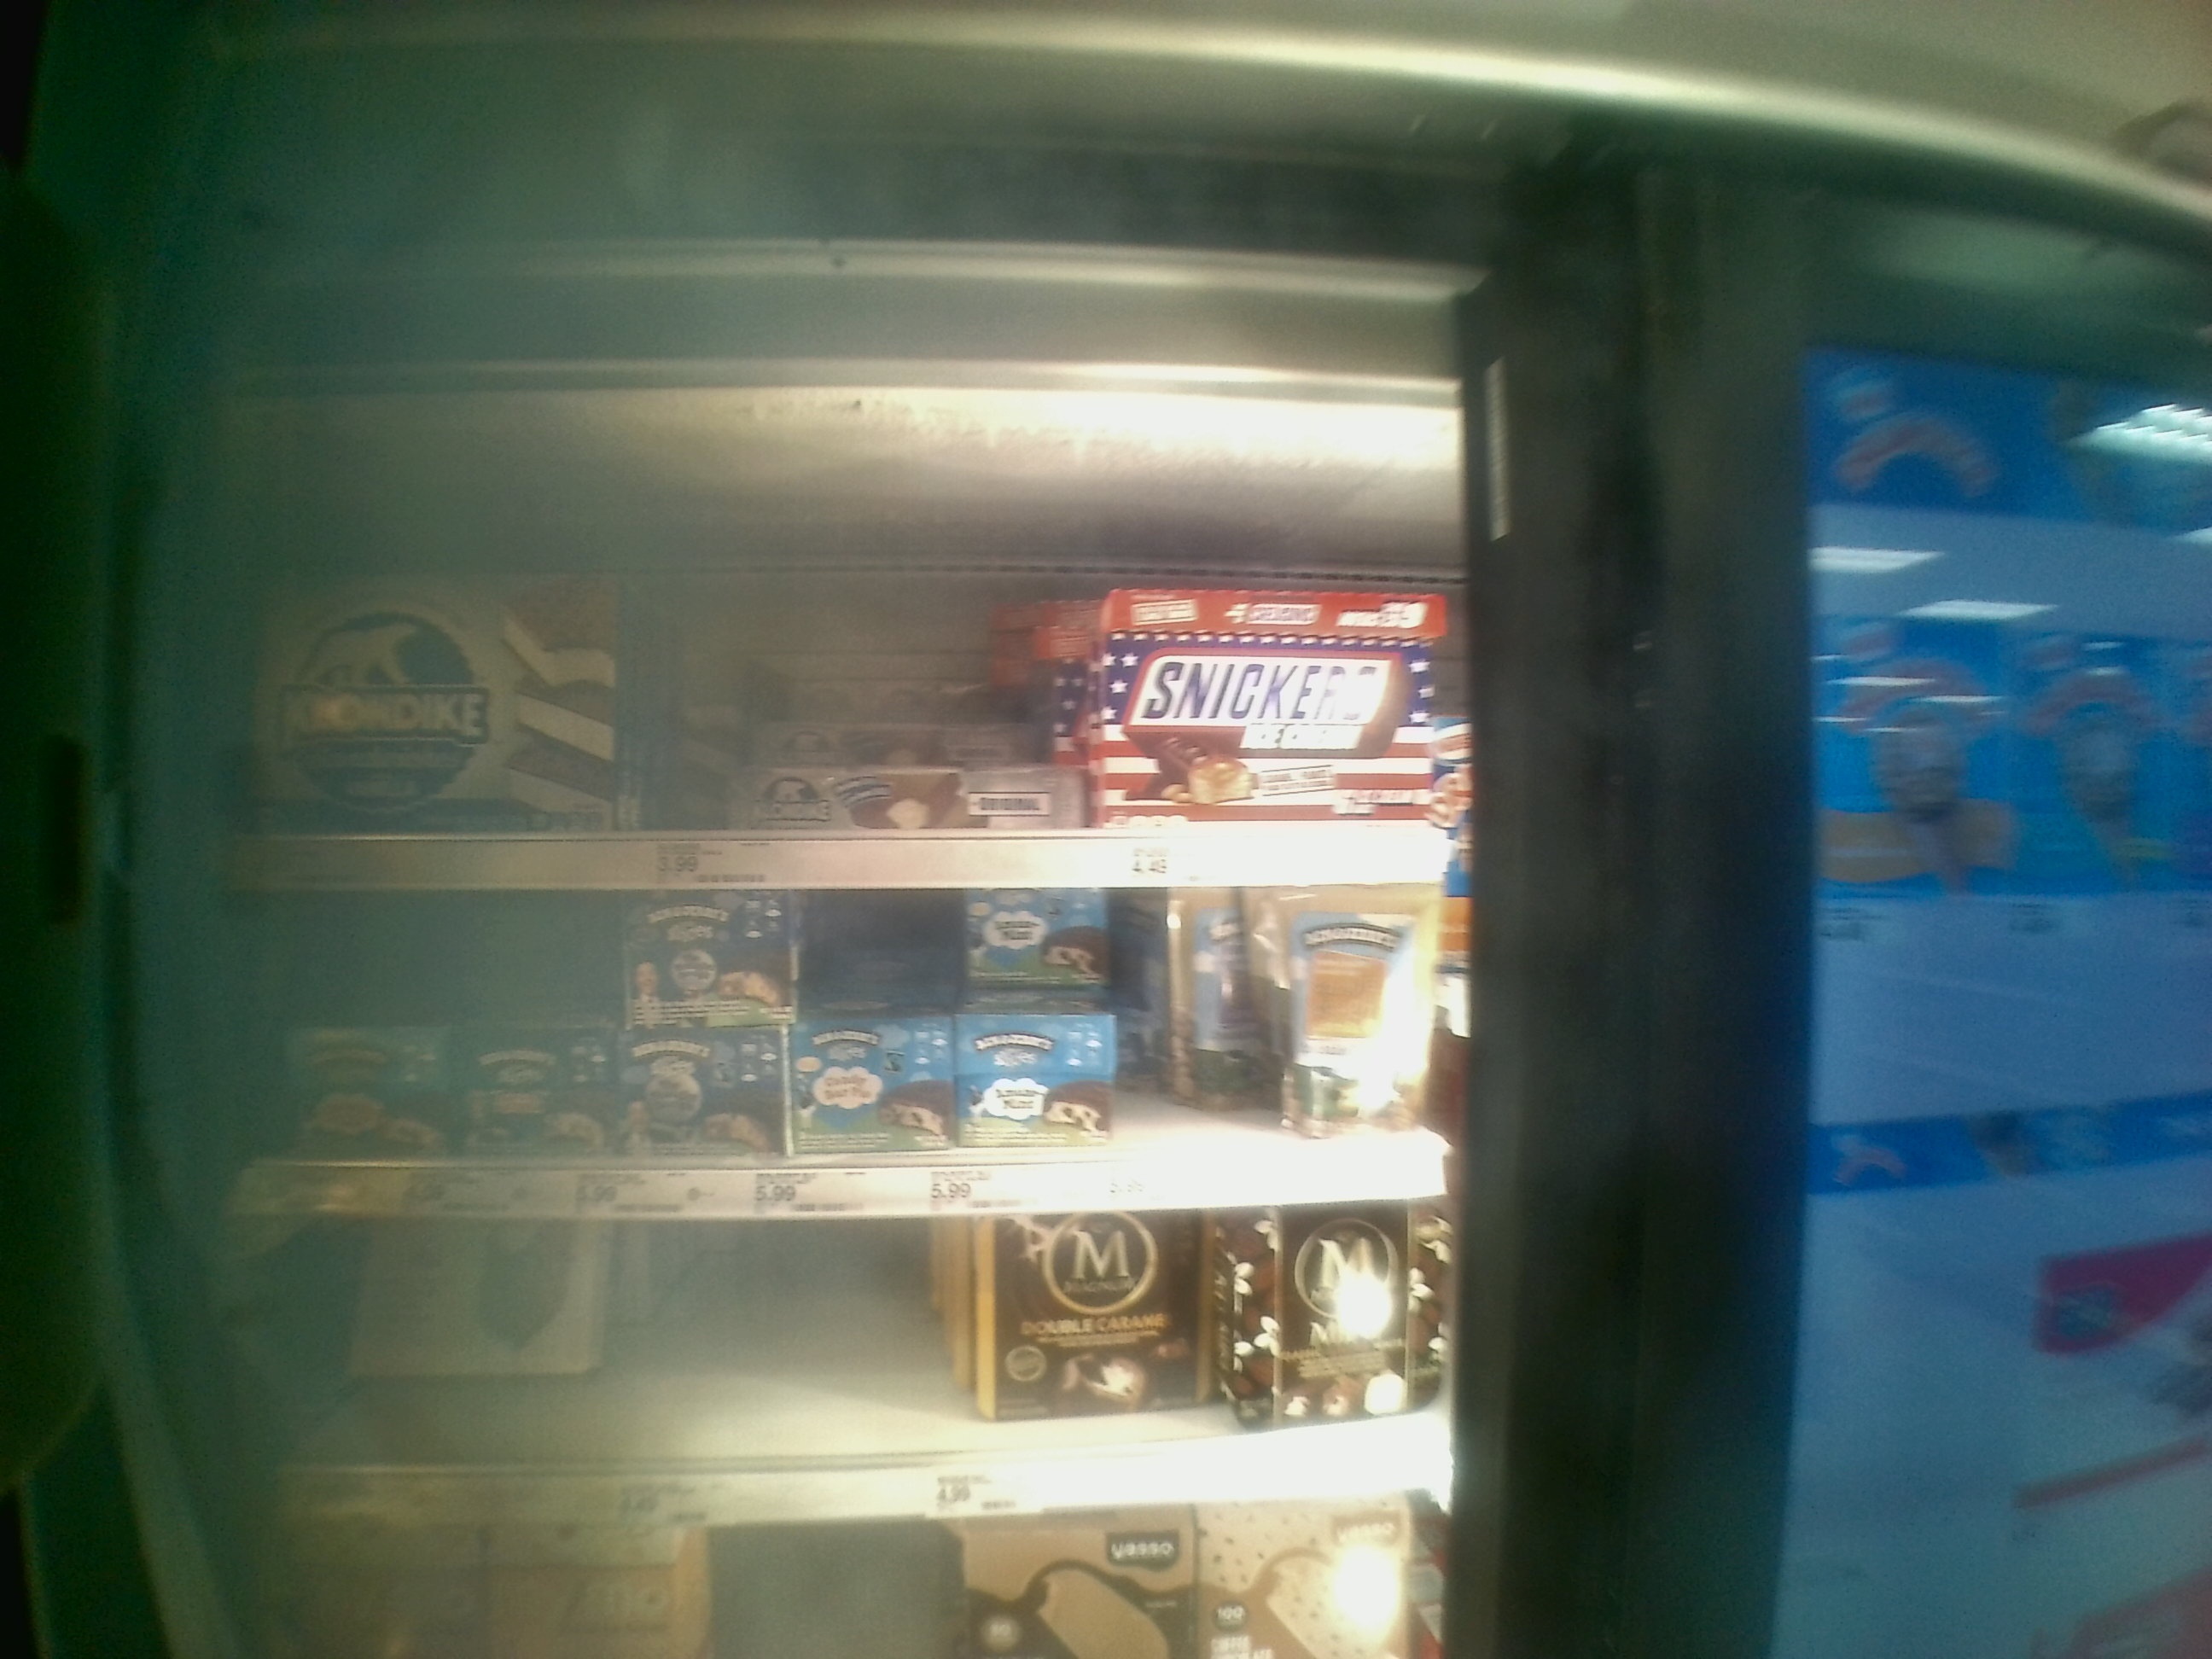ice-cream-shelf: (204, 467, 1463, 889), (200, 892, 1470, 1208)
